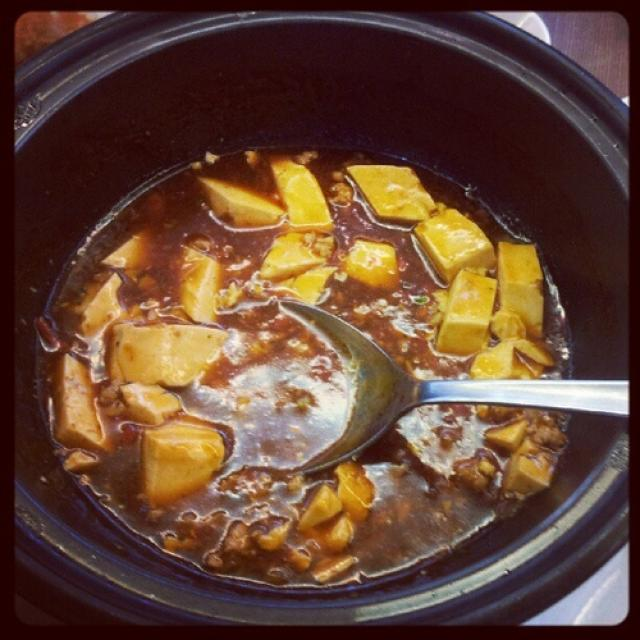汤锅炖物: (15, 23, 612, 608)
